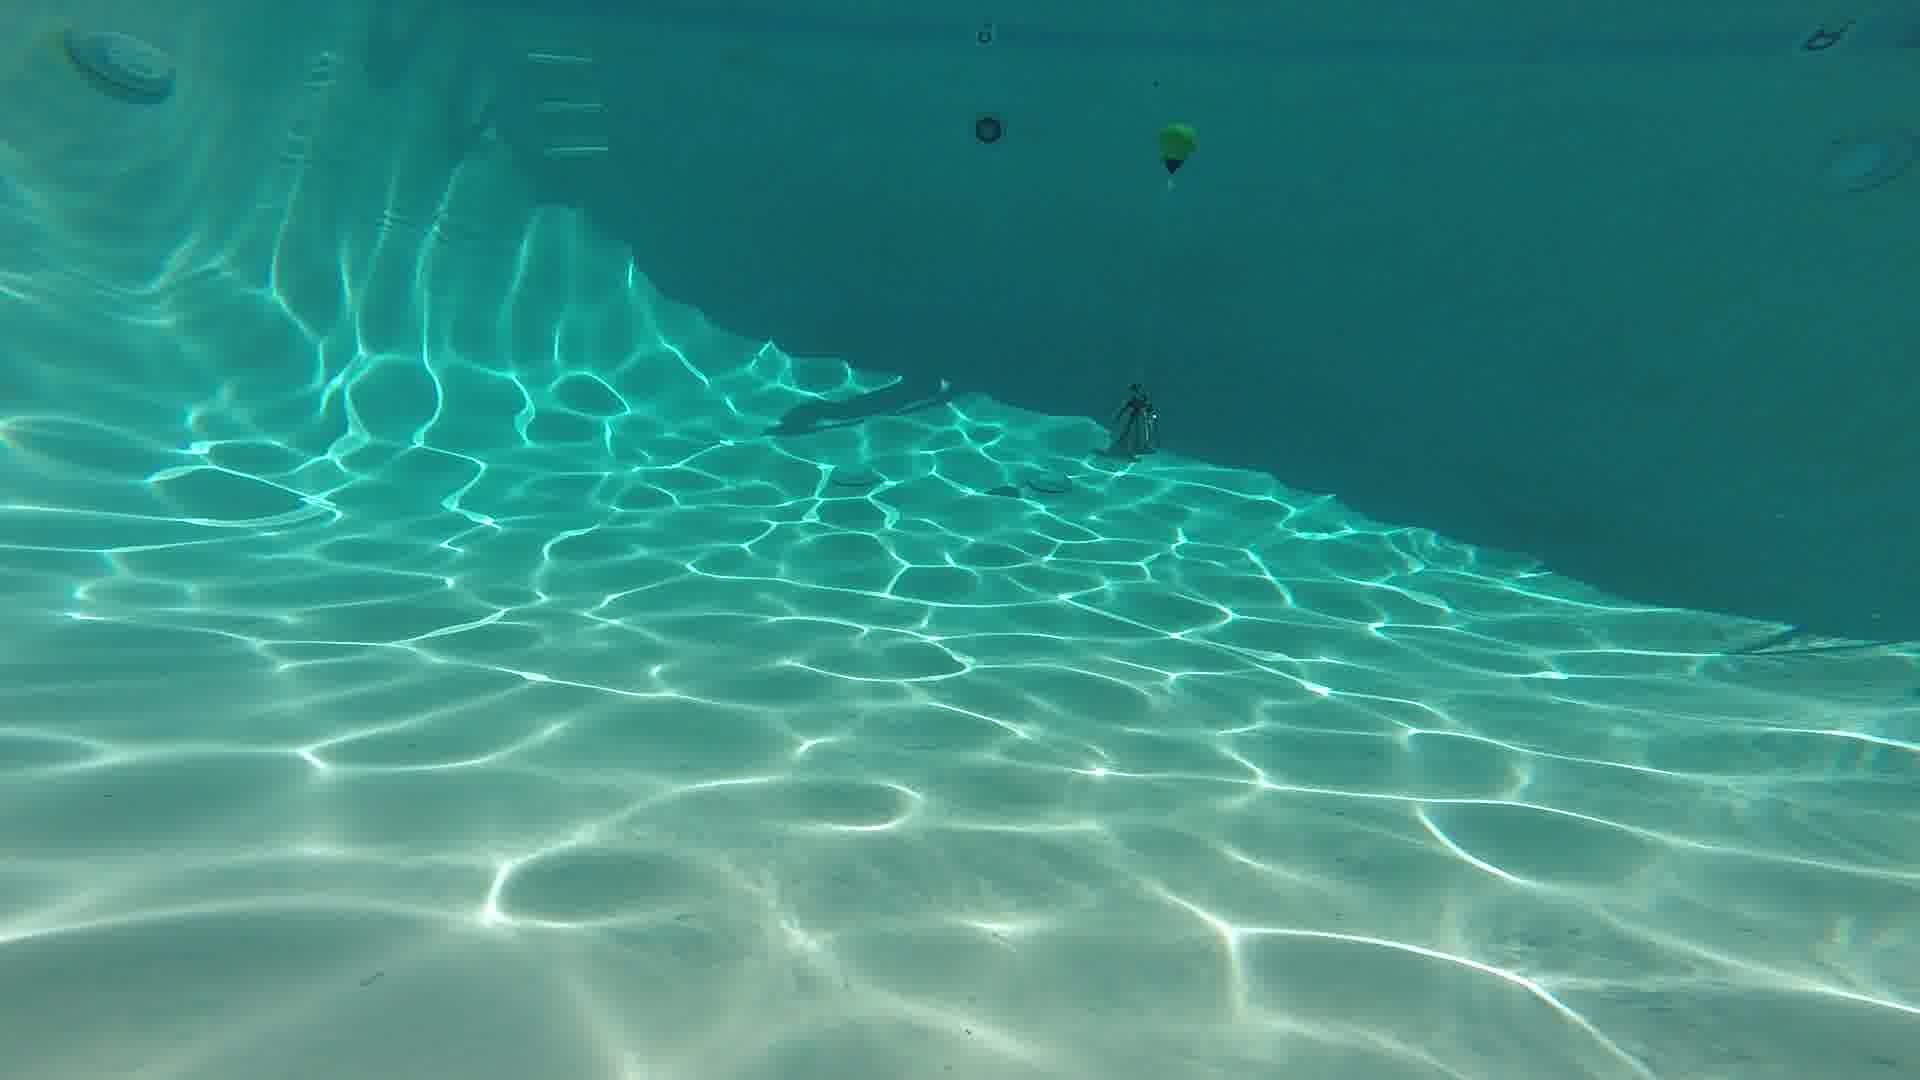yellow_buoy: (1156, 123, 1193, 171)
